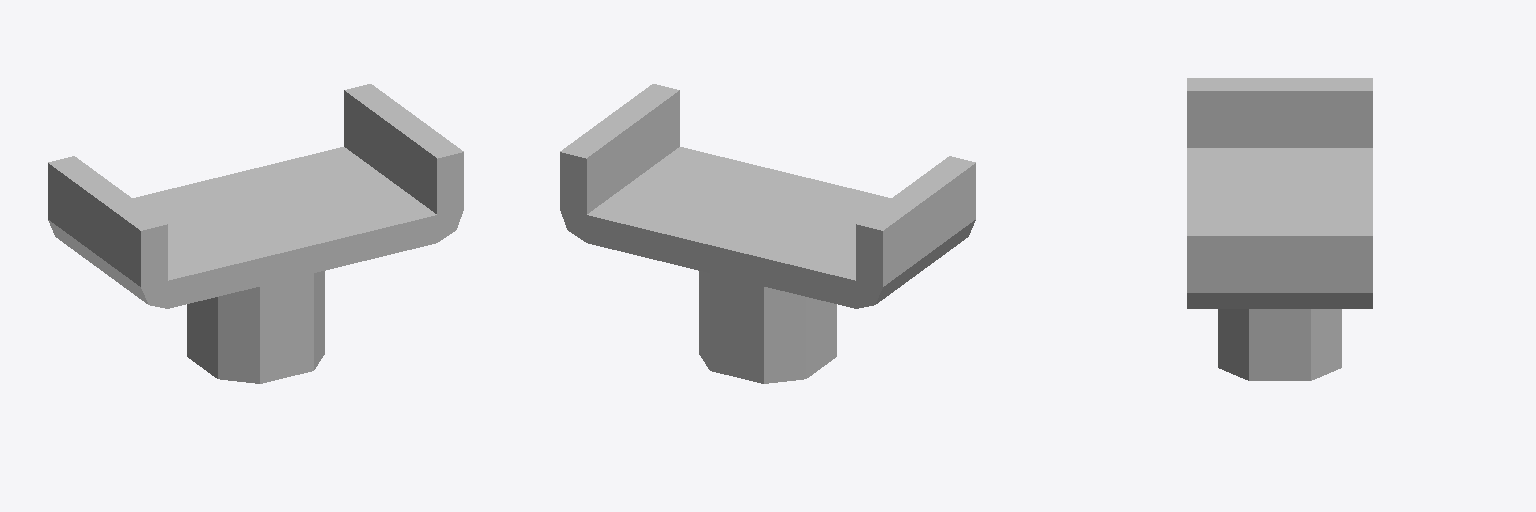
Rendered from support-single-top.obj.
3 views of the same model, side by side, from view 1: azimuth 30°, elevation 25°; view 2: azimuth 150°, elevation 25°; view 3: azimuth 270°, elevation 25° (orthographic).
Visible parts, largest first — view 1: support-single-top; view 2: support-single-top; view 3: support-single-top.
Part boxes in pixels (x1,y1,x2,y2): support-single-top: (48,84,463,383); support-single-top: (560,84,975,383); support-single-top: (1187,78,1372,380).
Bounding box in the file's own units: 1.2 × 0.7 × 0.6.